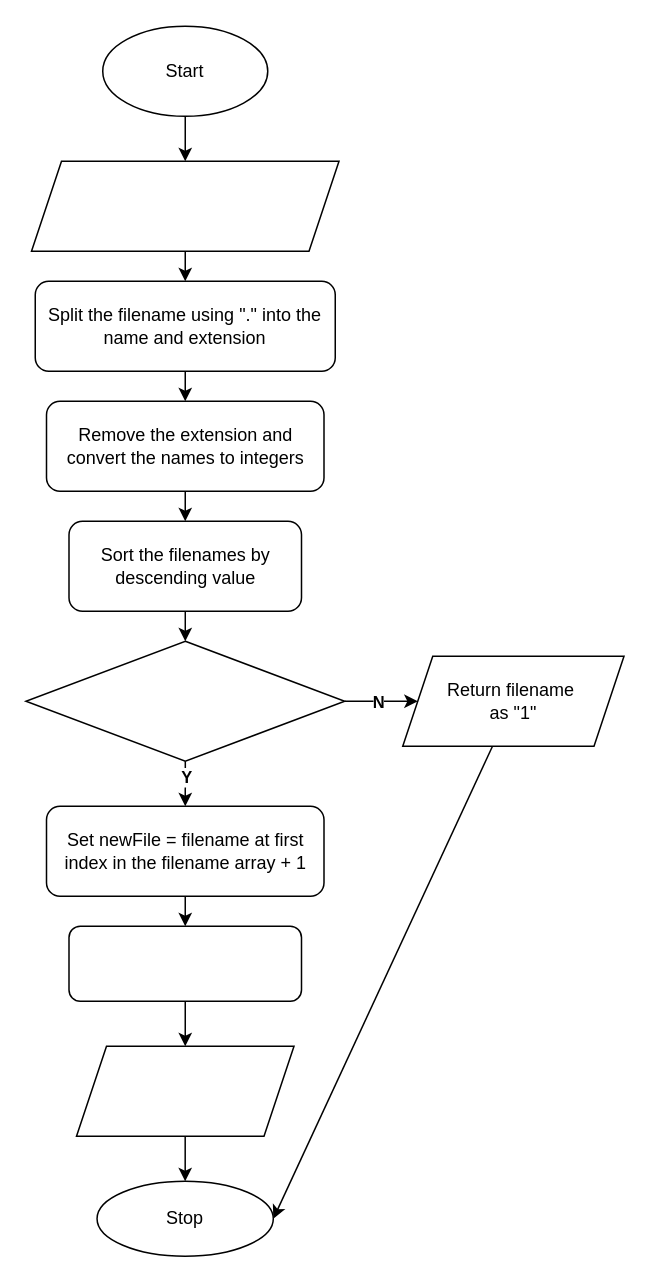
Image size: 651x1283. Some labels were removed from this diagram. The centre of each missing label's shape, as x and y in pixels:
Convert newFile to string: point (185, 963)
Get all the filenames from the "./output/images" directory: point (184, 205)
Is there at least 1 file in the directory?: point (184, 700)
Return filename as newFile: point (184, 1090)
